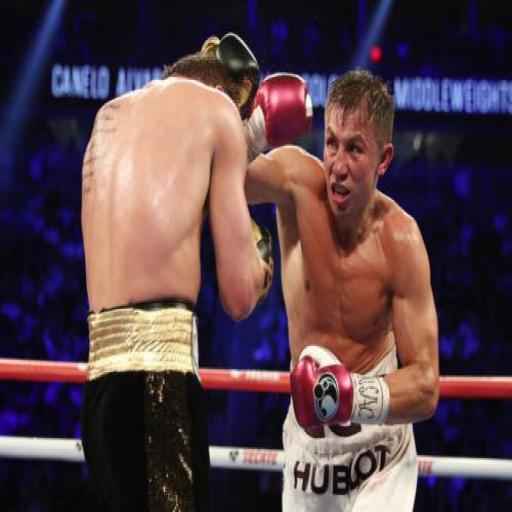boxing: (54, 32, 400, 512), (220, 26, 512, 512)
